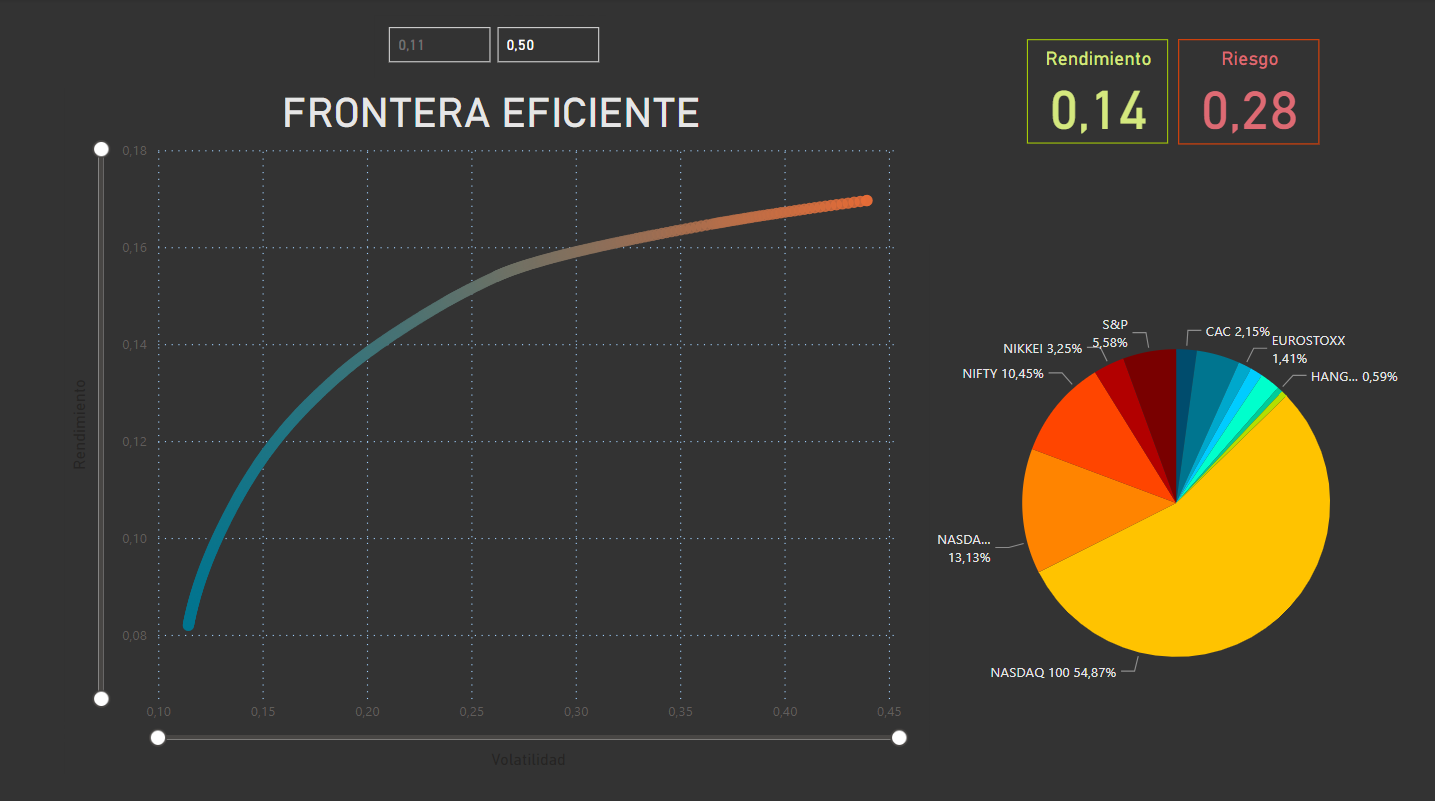

What the dashboard file says about the page in this screenshot:
{"tool":"powerbi","page":{"name":"F. EFICIENTE","canvas":[1280,720],"ordinal":1},"visuals":[{"type":"scatterChart","title":"FRONTERA EFICIENTE","fields":{"Y":["Sum(Sheet1.Rendimiento)"],"X":["Sum(Sheet1.Volatilidad)"]},"box":[60,80,760,610],"z":0},{"type":"card","title":"Rendimiento","fields":{"Values":["Avg(Sheet1.Rendimiento)"]},"box":[917.4,37.2,125.6,93],"z":1000},{"type":"card","title":"Riesgo","fields":{"Values":["Avg(Sheet1.Volatilidad)"]},"box":[1051.2,37.2,126.7,94.2],"z":2000},{"type":"pieChart","title":"PESO INDICES % EN CARTERA","fields":{"Y":["Avg(F. EFICIENTE.CAC)","Avg(F. EFICIENTE.DJ)","Avg(F. EFICIENTE.EUSTOXX)","Avg(F. EFICIENTE.FTSE)","Avg(F. EFICIENTE.GDA)","Avg(F. EFICIENTE.HANGSENG)","Avg(F. EFICIENTE.Ibex)","Avg(F. EFICIENTE.NASDAQ_100)","Avg(F. EFICIENTE.NASDAQ_COMP)","Avg(F. EFICIENTE.NIFTY)","Avg(F. EFICIENTE.NIKKEI)","Avg(F. EFICIENTE.S&P)"]},"box":[830.2,219.8,439.5,451.2],"z":3000},{"type":"slicer","fields":{"Values":["F. EFICIENTE.Volatilidad"]},"box":[336,16,208,56],"z":4000}]}

Visuals, with their boxes in screenshot pixels (x1, y1, x2, y2), scaled from the page's 1280x720 canvas onto the 1435x801 screenshot:
"FRONTERA EFICIENTE" scatterChart: [x1=67, y1=89, x2=919, y2=768]
"Rendimiento" card: [x1=1028, y1=41, x2=1169, y2=145]
"Riesgo" card: [x1=1178, y1=41, x2=1321, y2=146]
"PESO INDICES % EN CARTERA" pieChart: [x1=931, y1=245, x2=1423, y2=746]
slicer - F. EFICIENTE.Volatilidad: [x1=377, y1=18, x2=610, y2=80]
